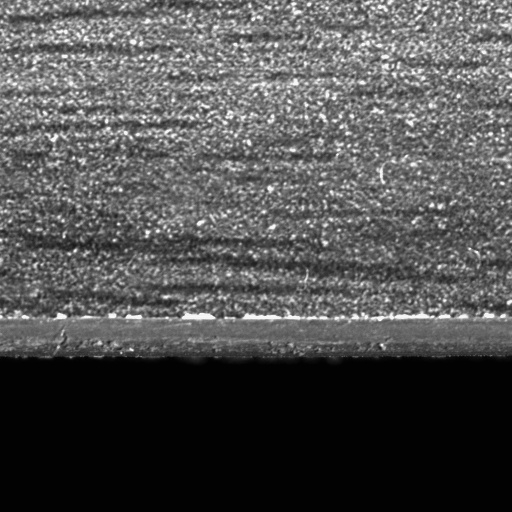huashang: (180, 311, 216, 322)
